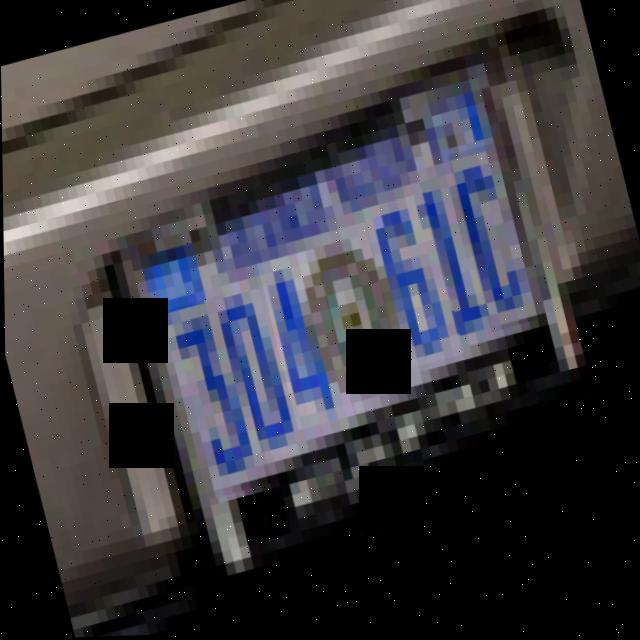0: (209, 290, 300, 460)
3: (165, 300, 265, 497)
4: (261, 257, 349, 429)
6: (362, 203, 459, 367)
C: (452, 148, 528, 334)
